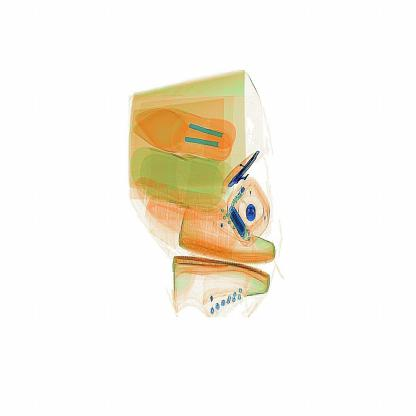pliers: (225, 147, 262, 199)
